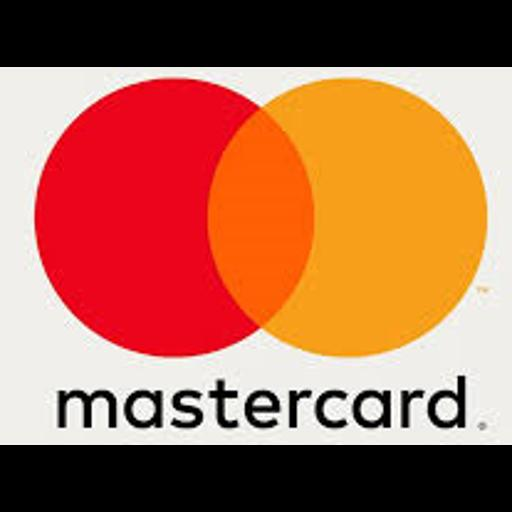Mastercard International: (0, 67, 512, 445)
